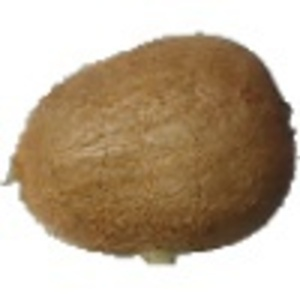kiwi: (1, 32, 300, 269)
